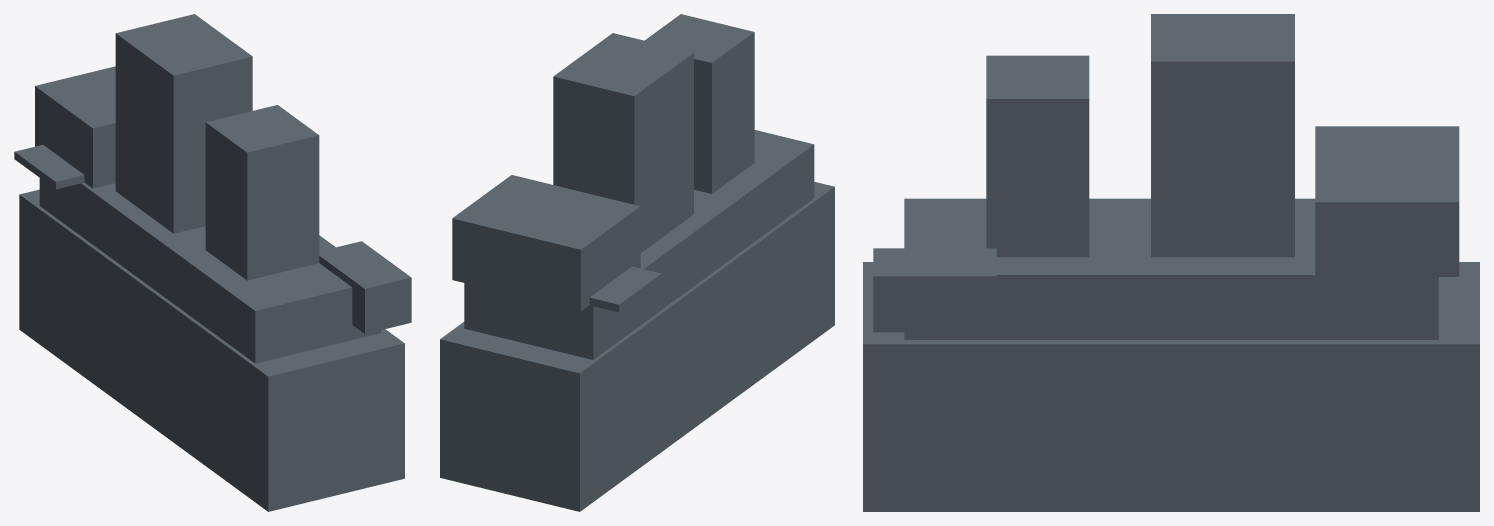
The model's file is env_fallow_island.fbx.
3 renders of one model, left to right at view 1: azimuth 30°, elevation 25°; view 2: azimuth 150°, elevation 25°; view 3: azimuth 270°, elevation 25°, orthographic. The views are drawn at different scales.
Parts seen in each view (by area): view 1: env_fallow_island; view 2: env_fallow_island; view 3: env_fallow_island.
Part boxes in pixels (x1,y1,x2,y2): env_fallow_island: [14, 14, 411, 511]; env_fallow_island: [440, 14, 834, 511]; env_fallow_island: [863, 14, 1479, 511].
Size of the model in its own units: 2350 by 4598 by 6000.
